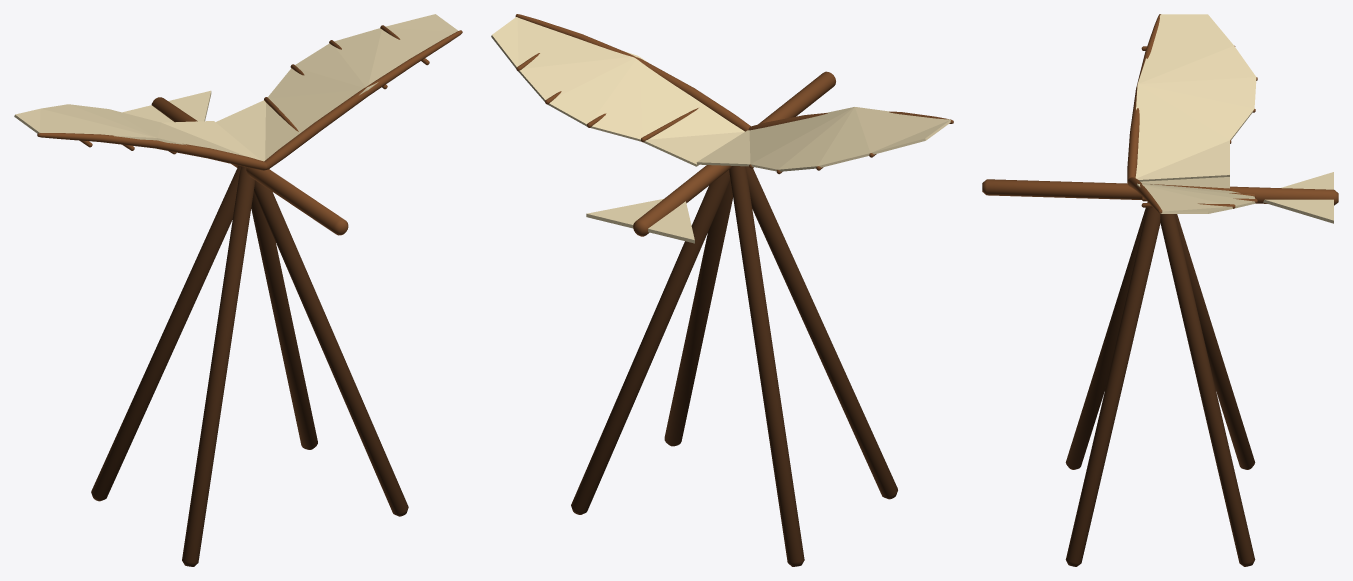
File: maquina_voladora.glb
The picture shows the model from 3 angles, left to right: view 1: azimuth 30°, elevation 25°; view 2: azimuth 150°, elevation 25°; view 3: azimuth 270°, elevation 25°; orthographic projection. The views are drawn at different scales.
Parts seen in each view (by area): view 1: lona1, pata_b-1, pata_b1, pata-1, lona-1, pata1, quilla, larguero1, larguero-1, cola; view 2: lona1, lona-1, pata-1, pata1, pata_b-1, pata_b1, quilla, cola, larguero1; view 3: lona-1, pata_b1, pata1, quilla, pata_b-1, pata-1, lona1, cola, larguero-1.
Boxes of the visible parts, x1,y1,x2,y2 form: lona1: [215, 14, 458, 161]; pata_b-1: [182, 166, 254, 566]; pata_b1: [254, 180, 408, 516]; pata-1: [91, 165, 241, 501]; lona-1: [14, 104, 260, 160]; pata1: [251, 191, 317, 449]; quilla: [151, 97, 348, 235]; larguero1: [264, 30, 462, 169]; larguero-1: [37, 133, 267, 170]; cola: [122, 90, 211, 122]; lona1: [491, 17, 744, 166]; lona-1: [696, 107, 950, 171]; pata-1: [729, 166, 804, 566]; pata1: [571, 170, 730, 514]; pata_b-1: [746, 166, 897, 499]; pata_b1: [664, 180, 732, 446]; quilla: [633, 71, 835, 236]; cola: [586, 199, 694, 243]; larguero1: [515, 14, 750, 131]; lona-1: [1135, 14, 1256, 181]; pata_b1: [1065, 207, 1160, 566]; pata1: [1160, 214, 1255, 566]; quilla: [982, 179, 1338, 205]; pata_b-1: [1065, 202, 1148, 469]; pata-1: [1175, 214, 1255, 469]; lona1: [1137, 177, 1255, 213]; cola: [1263, 172, 1333, 223]; larguero-1: [1127, 14, 1160, 180].
Size of what is drawn, in the model's own units: 0.8061 by 0.7739 by 0.6159.
